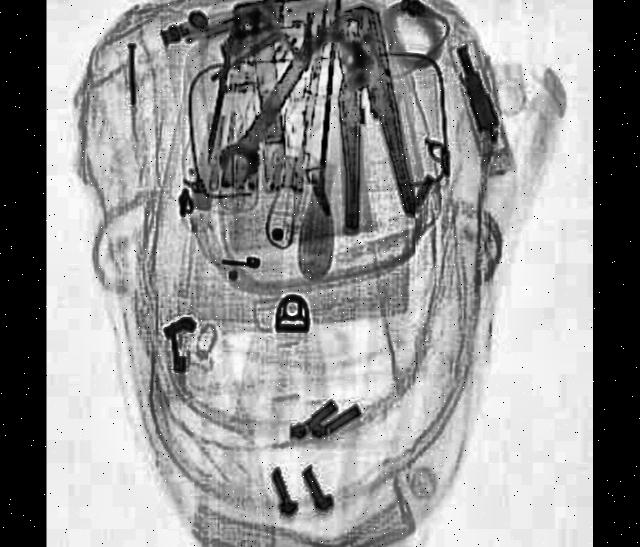Pliers: (314, 0, 416, 231)
Wrench: (212, 5, 338, 192)
